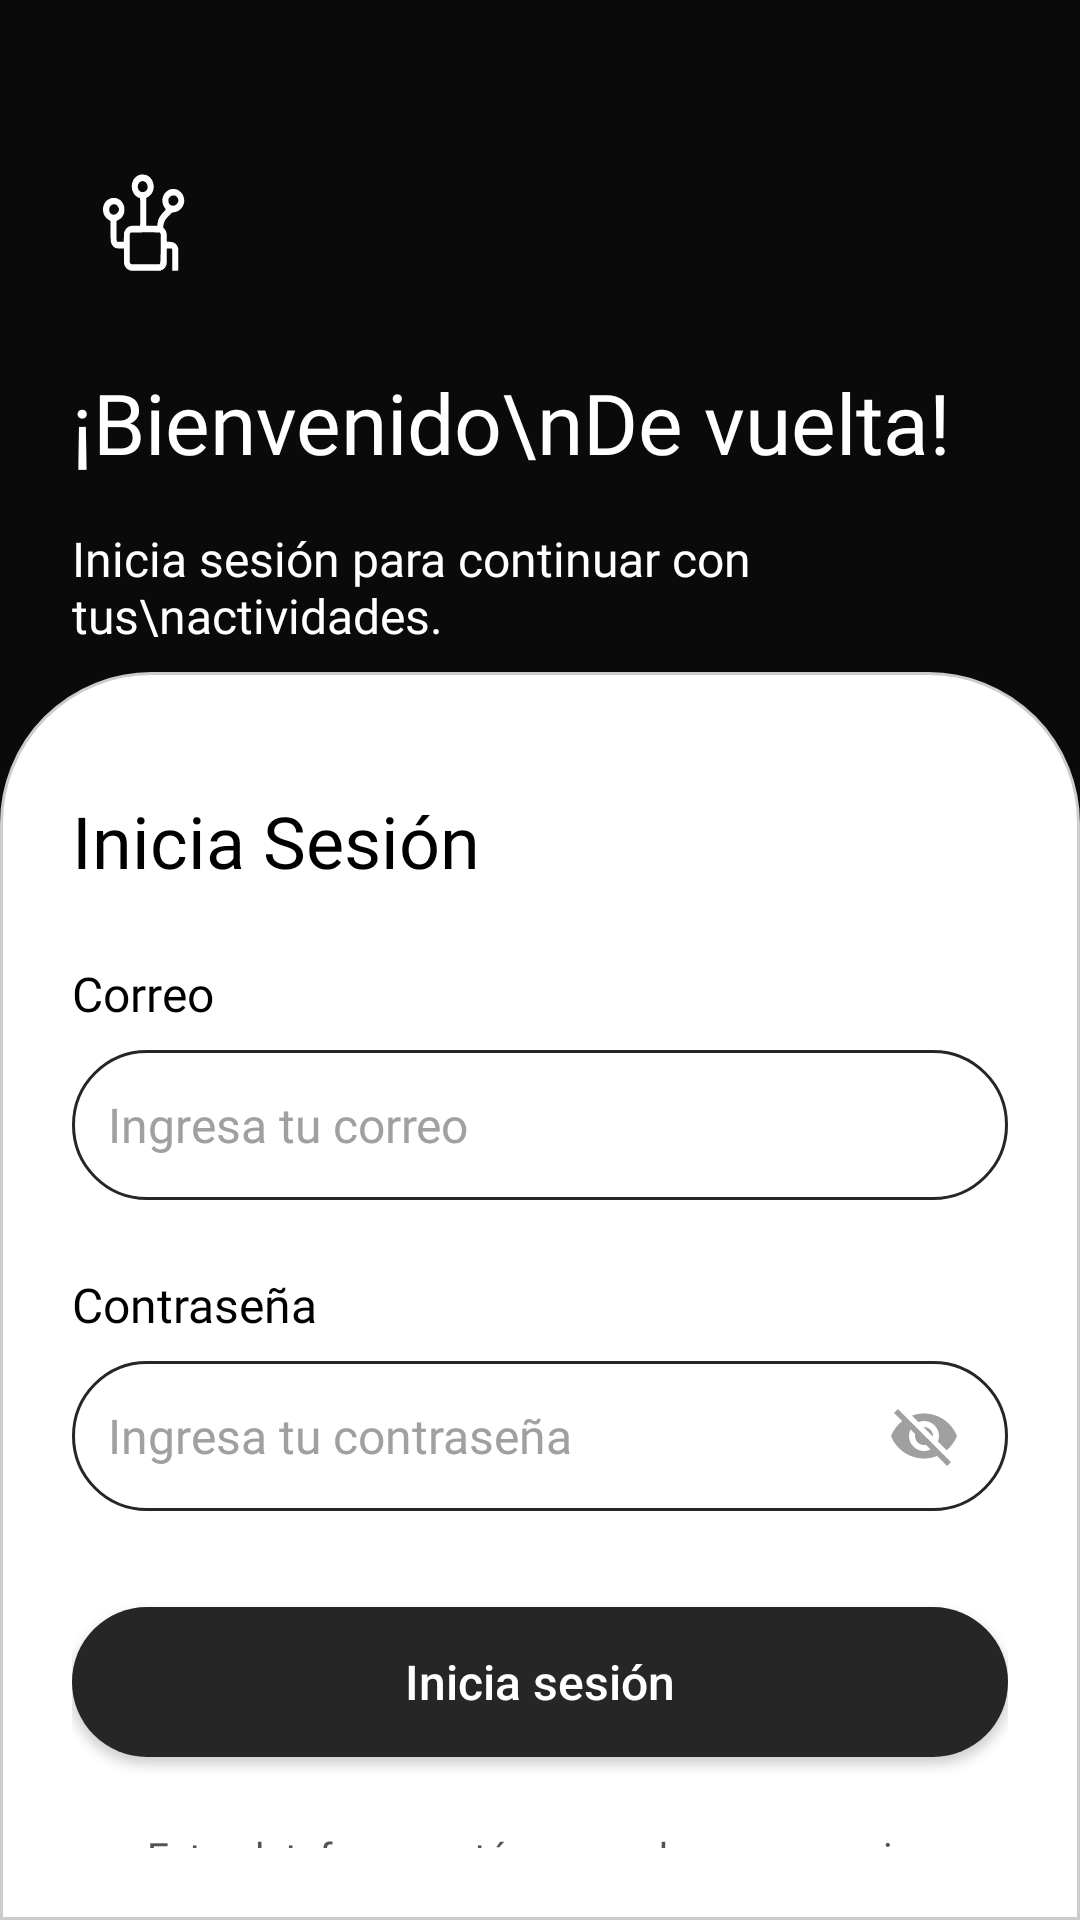

Icons on this 1080×1920 Android screen, each with the point to tap as point (x, y):
Mostrar/ocultar contraseña: point (924, 1437)
